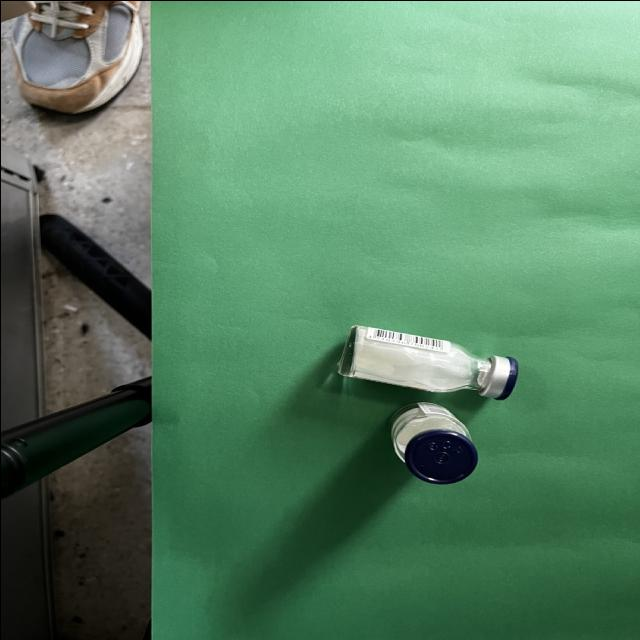Vials: (336, 324, 517, 399), (389, 402, 476, 483)
